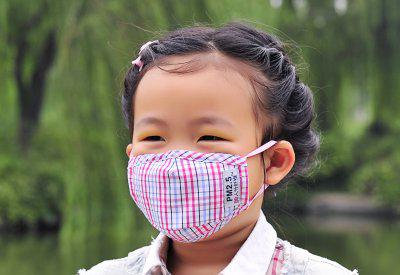OK: (130, 114, 262, 240)
